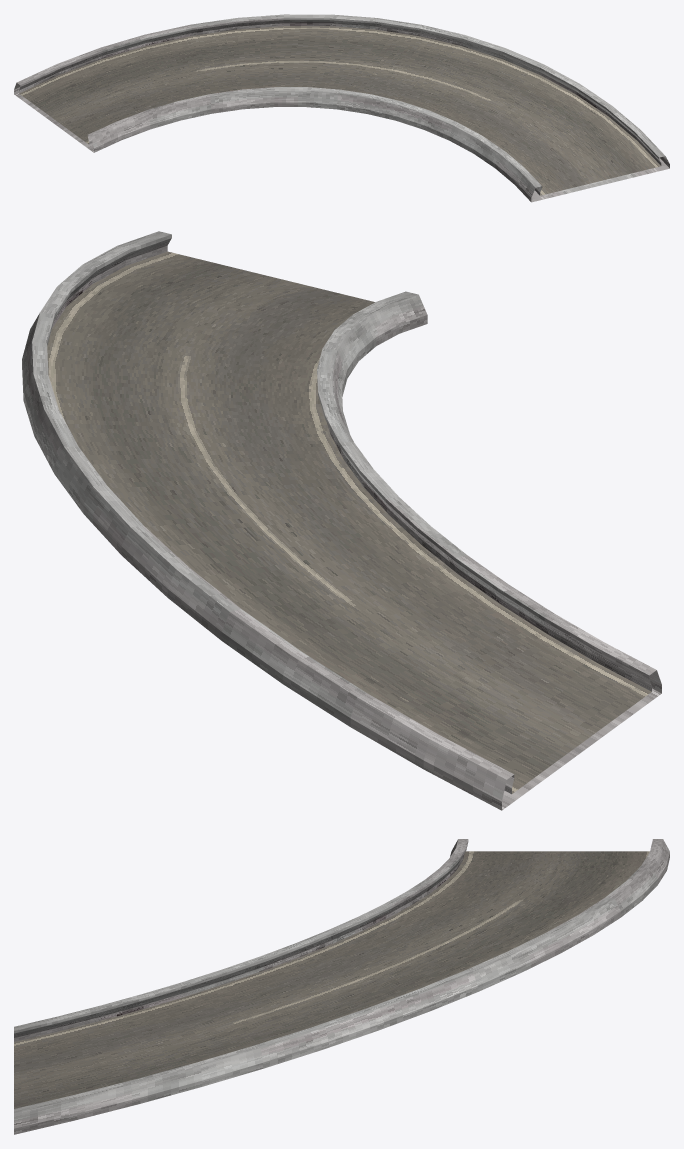
Rendered from road-Turn-BiSlopeUp-BiSlopeDown-Even-Left-Size3.glb.
3 views of the same model, one above another, from view 1: azimuth 30°, elevation 25°; view 2: azimuth 150°, elevation 25°; view 3: azimuth 270°, elevation 25° (orthographic). The views are drawn at different scales.
Parts seen in each view (by area): view 1: road-Turn-BiSlopeUp-BiSlopeDown-Even-Left-Size3; view 2: road-Turn-BiSlopeUp-BiSlopeDown-Even-Left-Size3; view 3: road-Turn-BiSlopeUp-BiSlopeDown-Even-Left-Size3.
Part boxes in pixels (x1,y1,x2,y2): road-Turn-BiSlopeUp-BiSlopeDown-Even-Left-Size3: [14, 14, 669, 202]; road-Turn-BiSlopeUp-BiSlopeDown-Even-Left-Size3: [22, 231, 661, 810]; road-Turn-BiSlopeUp-BiSlopeDown-Even-Left-Size3: [14, 839, 669, 1134].
Size of the model in its own units: 3 by 0.4011 by 3.
Materials: 2 (2 with a texture image).
